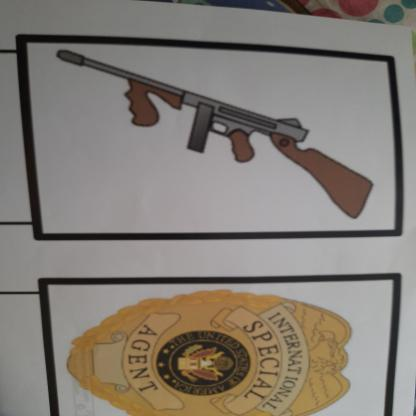Bootlegger: (46, 37, 388, 232)
G-man: (46, 286, 368, 416)
